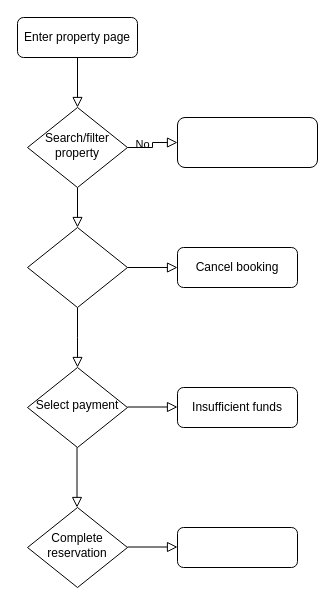
This 335x605 diagram has some shape labels left out. Here are the shapes that lost their labels. From the top down, the box of each, then its label:
(176, 116, 318, 168): Desired property not found. Get notification when available
(26, 226, 128, 308): Book property
(176, 526, 298, 568): save reservation ticket
